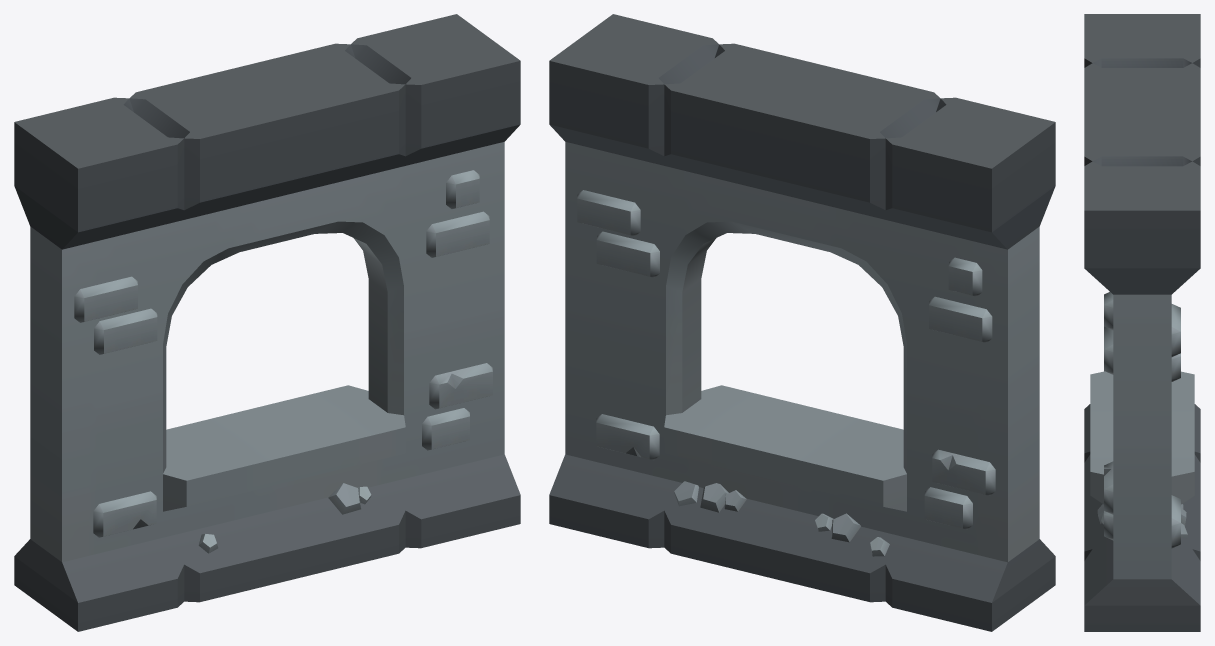
The model's file is kaykit-dungeon-remastered-wall-archedwindow-open-gltf.glb.
3 renders of one model, left to right at view 1: azimuth 30°, elevation 25°; view 2: azimuth 150°, elevation 25°; view 3: azimuth 270°, elevation 25°, orthographic. The views are drawn at different scales.
Visible parts, largest first — view 1: wall_archedwindow_open; view 2: wall_archedwindow_open; view 3: wall_archedwindow_open.
Boxes of the visible parts, x1,y1,x2,y2 form: wall_archedwindow_open: (14, 14, 520, 631); wall_archedwindow_open: (549, 14, 1055, 631); wall_archedwindow_open: (1084, 14, 1200, 631).
Size of the model in its own units: 4 by 4 by 1.
1 material, 1 textured.
